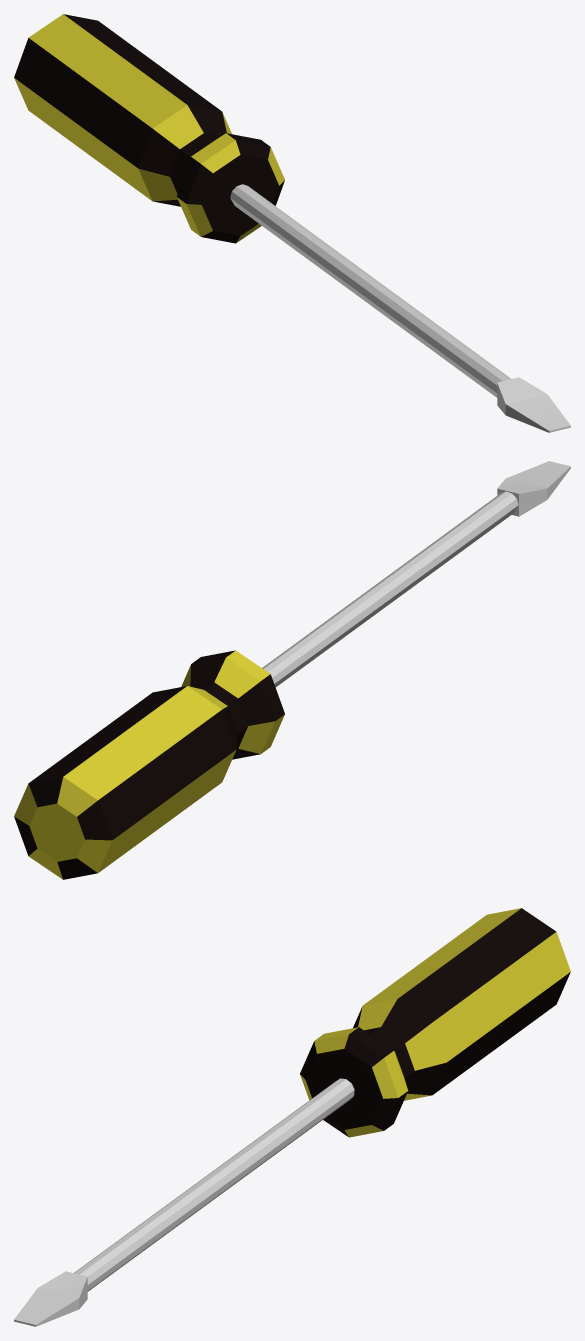
File: Screwdriver_Single.fbx
The picture shows the model from 3 angles, top to bottom: view 1: azimuth 30°, elevation 25°; view 2: azimuth 150°, elevation 25°; view 3: azimuth 330°, elevation 25°; orthographic projection.
Visible parts, largest first — view 1: Screwdriver_Single; view 2: Screwdriver_Single; view 3: Screwdriver_Single.
Part boxes in pixels (<box>): Screwdriver_Single: <box>14,14,570,432</box>; Screwdriver_Single: <box>14,461,570,879</box>; Screwdriver_Single: <box>14,908,570,1326</box>.
Size of the model in its own units: 7.03 by 7.03 by 62.05.
